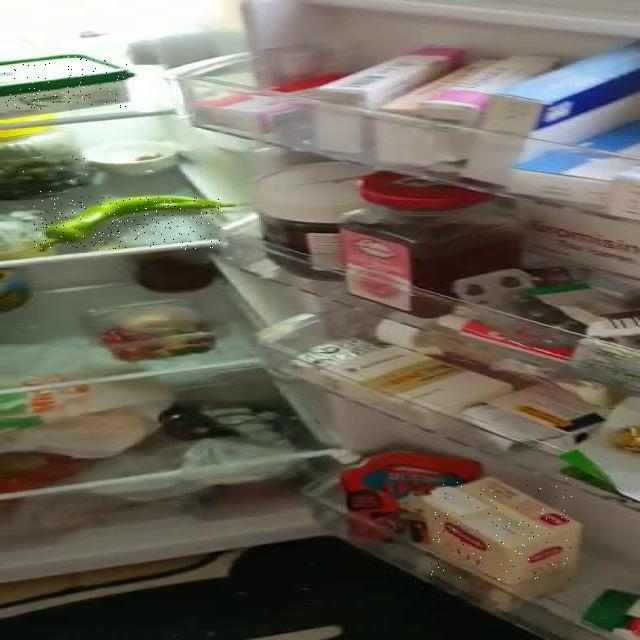cream cheese: (4, 56, 128, 110)
green chilies: (34, 197, 222, 250)
milk: (430, 478, 572, 581)
olives: (2, 156, 89, 195)
